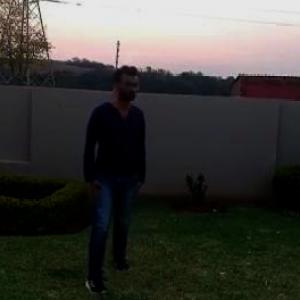follow: (77, 54, 144, 294)
